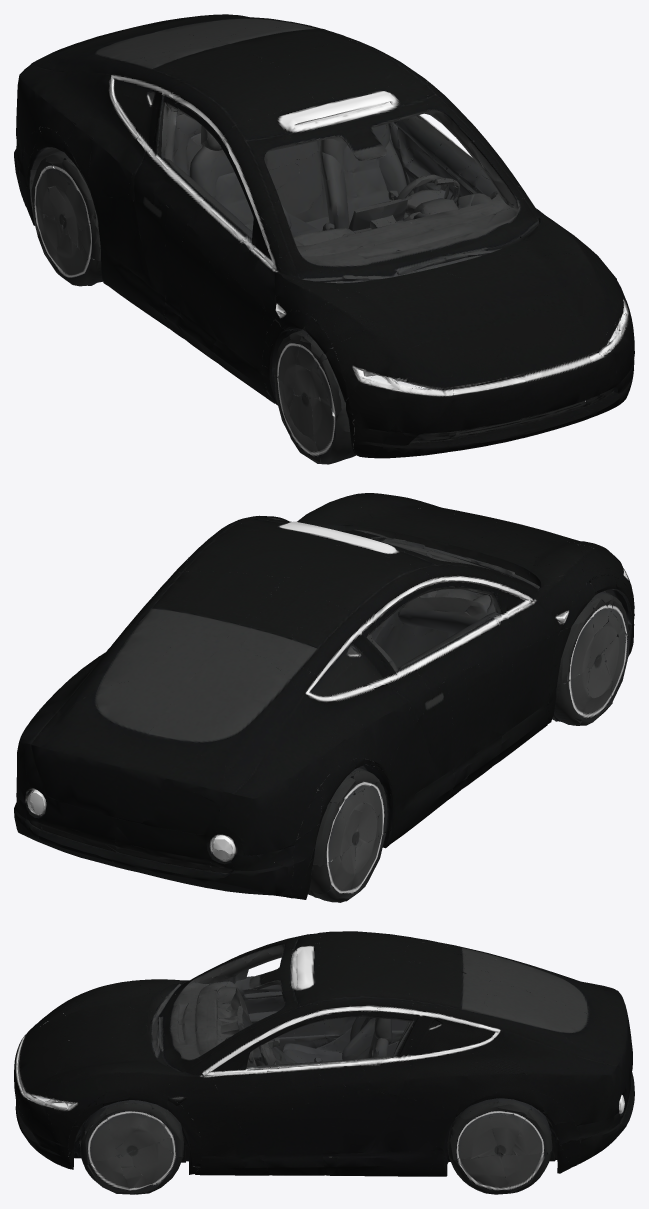
The model's file is cybercab-latest-quality.glb.
The picture shows the model from 3 angles, top to bottom: view 1: azimuth 30°, elevation 25°; view 2: azimuth 150°, elevation 25°; view 3: azimuth 270°, elevation 25°; orthographic projection. The views are drawn at different scales.
Parts seen in each view (by area): view 1: Body, Wheel_RL, Wheel_FL; view 2: Body, Wheel_FL, Wheel_RL; view 3: Body, Wheel_RR, Wheel_FR.
Boxes of the visible parts, x1,y1,x2,y2 form: Body: (14, 14, 634, 458); Wheel_RL: (261, 310, 356, 464); Wheel_FL: (19, 127, 102, 286); Body: (14, 493, 634, 897); Wheel_FL: (281, 758, 387, 902); Wheel_RL: (512, 575, 634, 725); Body: (14, 931, 634, 1176); Wheel_RR: (67, 1087, 203, 1194); Wheel_FR: (446, 1088, 581, 1194).
Size of the model in its own units: 1.88 by 1.43 by 4.45.
Materials: 1 (1 with a texture image).
